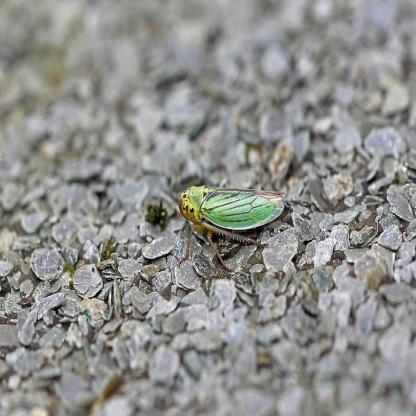Green-Leafhopper: (178, 183, 288, 276)
